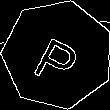P_NE: (29, 24, 86, 86)
